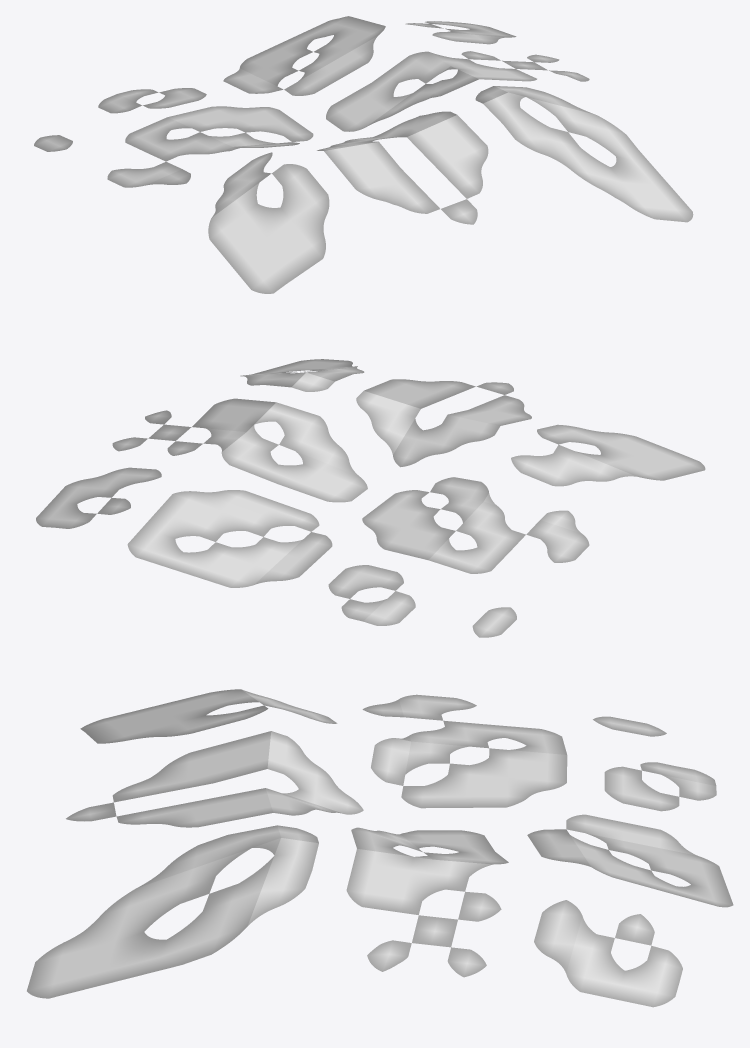
File: plant.fbx
3 renders of one model, top to bottom at view 1: azimuth 30°, elevation 25°; view 2: azimuth 150°, elevation 25°; view 3: azimuth 270°, elevation 25°, orthographic. The views are drawn at different scales.
Visible parts, largest first — view 1: plant; view 2: plant; view 3: plant.
Boxes of the visible parts, x1,y1,x2,y2 form: plant: (34, 16, 693, 293); plant: (36, 359, 705, 637); plant: (27, 689, 733, 1007).
Size of the model in its own units: 50.9 by 53.02 by 9.46.
